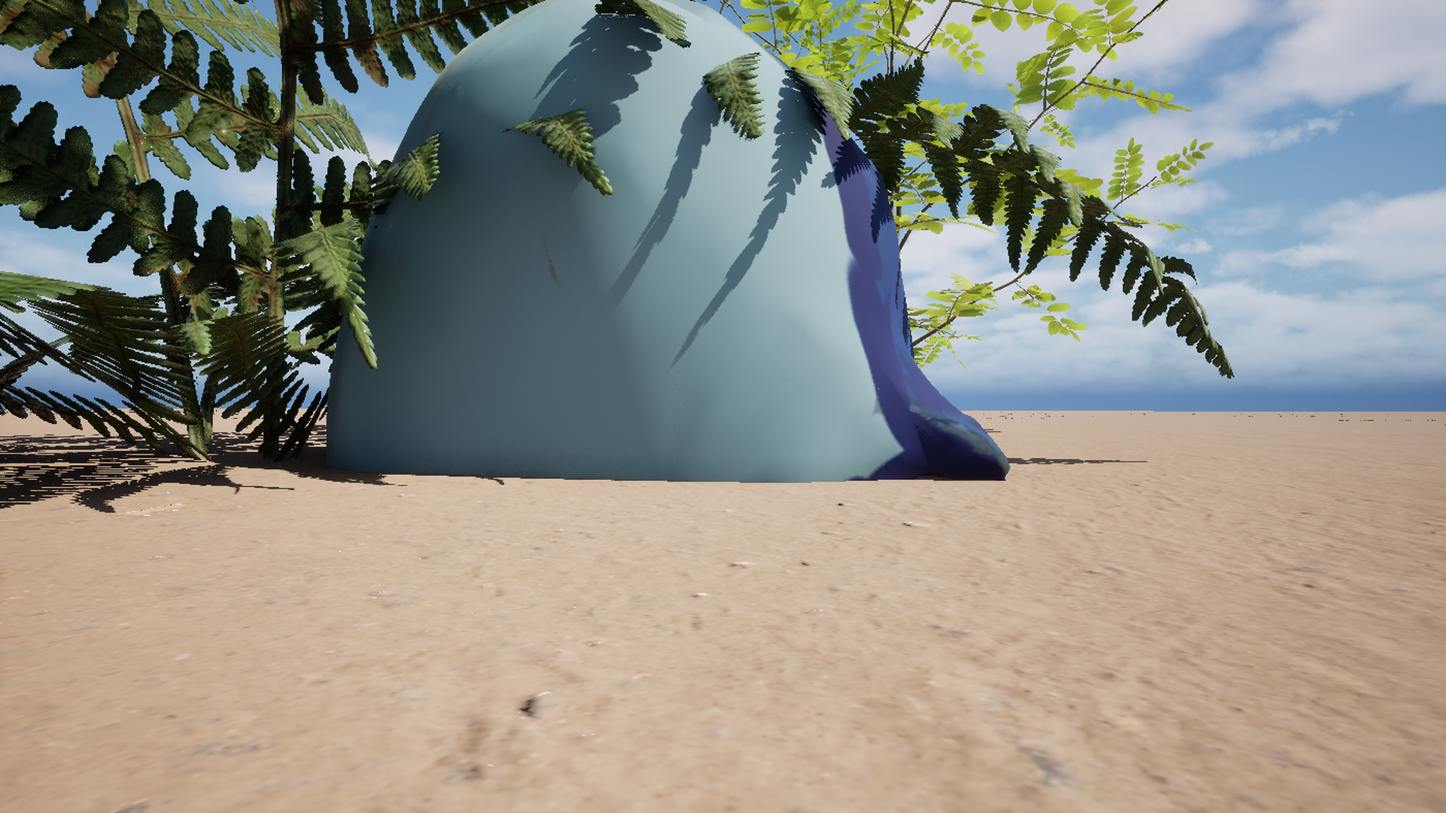Piplup: (229, 0, 1071, 813)
